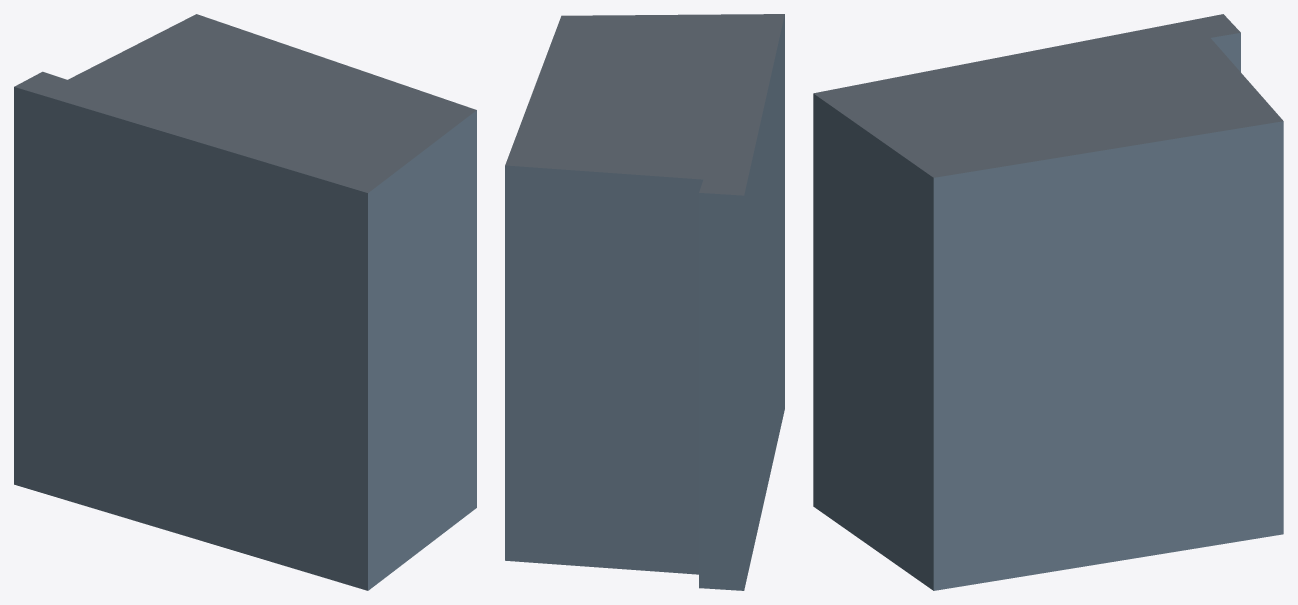
3 renders of one model, left to right at view 1: azimuth 30°, elevation 25°; view 2: azimuth 150°, elevation 25°; view 3: azimuth 270°, elevation 25°, orthographic. The views are drawn at different scales.
Visible parts, largest first — view 1: HP-w508909419; view 2: HP-w508909419; view 3: HP-w508909419.
Boxes of the visible parts, box(x1,y1,x2,y2) form: HP-w508909419: box(14, 14, 476, 590); HP-w508909419: box(505, 14, 784, 590); HP-w508909419: box(813, 14, 1283, 590).
Size of the model in its own units: 64.66 by 76 by 78.45.
